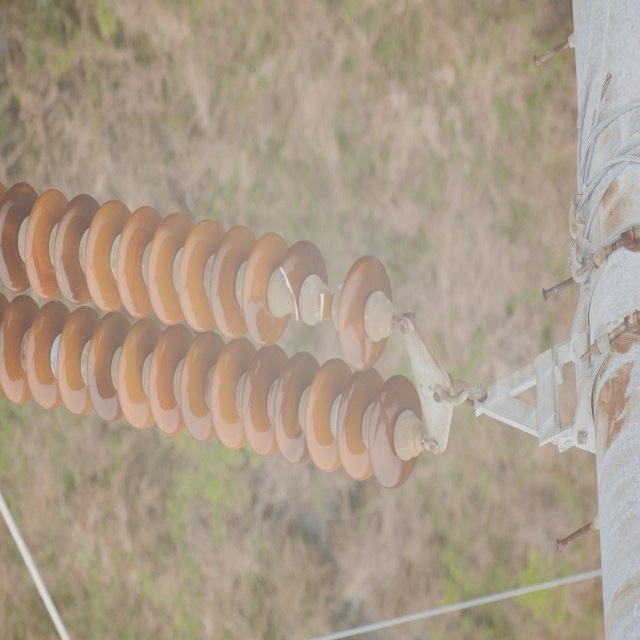broken: (277, 260, 305, 326), (315, 289, 334, 328)
insulator: (0, 183, 422, 488)
